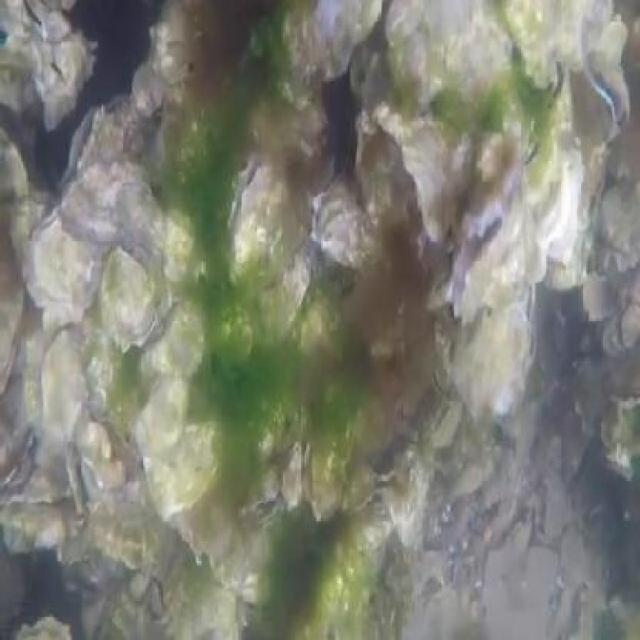Oyster-Closed: (455, 283, 540, 419), (536, 141, 608, 291), (224, 149, 297, 284), (0, 123, 31, 404), (25, 209, 97, 329), (522, 59, 573, 207), (312, 183, 360, 269), (302, 433, 343, 518), (429, 308, 458, 397), (45, 43, 85, 97), (430, 398, 465, 449)
Oyster-Indeterminate: (378, 101, 476, 239), (385, 0, 511, 107), (503, 0, 635, 86), (278, 0, 388, 96), (143, 420, 221, 513), (249, 252, 311, 354), (41, 328, 90, 446), (140, 381, 188, 473), (144, 304, 201, 380), (339, 458, 375, 517), (584, 274, 626, 311), (623, 301, 640, 346)
Oyster-Open: (451, 173, 547, 312), (56, 94, 160, 193), (96, 246, 164, 353), (571, 53, 629, 154), (0, 423, 40, 509), (243, 466, 287, 526), (65, 444, 96, 513), (16, 616, 73, 640), (23, 0, 46, 31)
